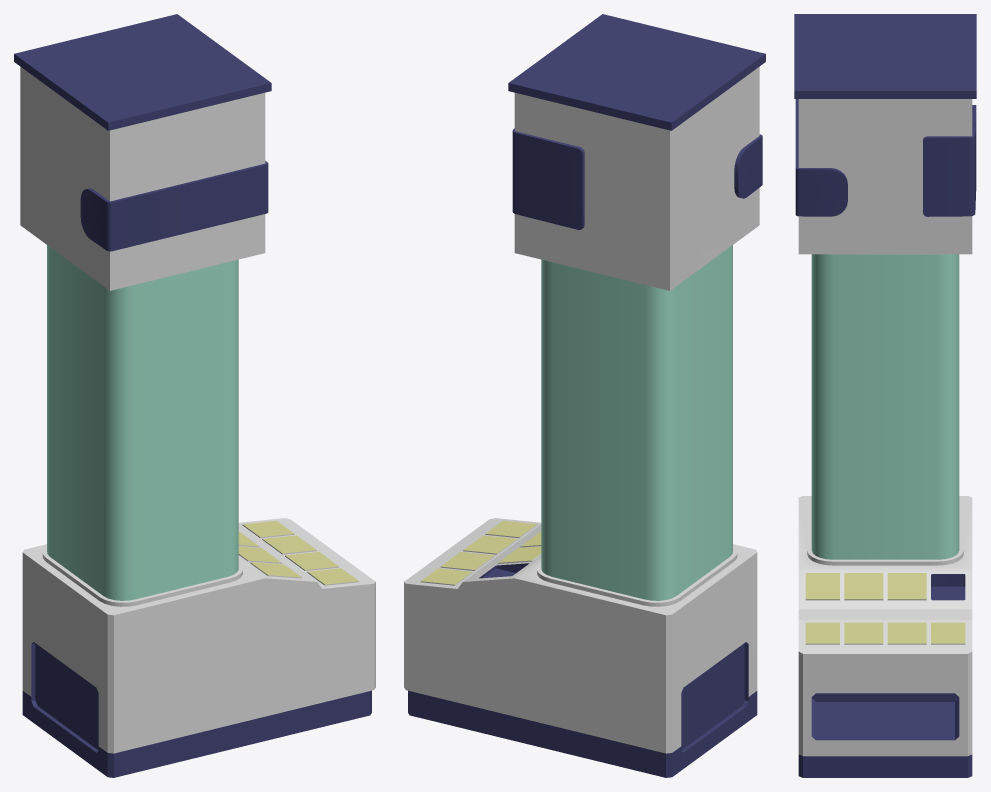
File: IncuBerth.dae
3 views of the same model, side by side, from view 1: azimuth 30°, elevation 25°; view 2: azimuth 150°, elevation 25°; view 3: azimuth 270°, elevation 25° (orthographic). The views are drawn at different scales.
Visible parts, largest first — view 1: IncuBerth; view 2: IncuBerth; view 3: IncuBerth.
Part boxes in pixels (x1=…): IncuBerth: x1=14, y1=14, x2=375, y2=777; IncuBerth: x1=404, y1=14, x2=765, y2=777; IncuBerth: x1=794, y1=14, x2=976, y2=777.
Bounding box in the file's own units: 1.75 × 1.05 × 4.05.
